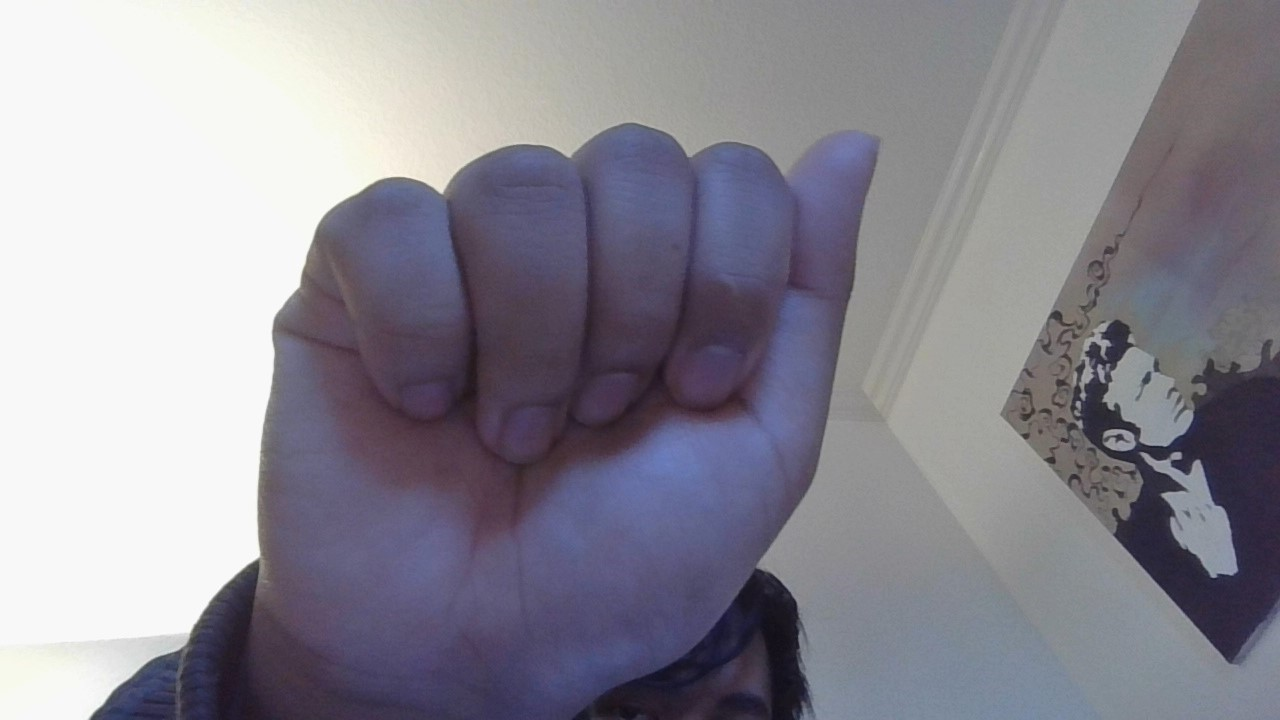a: (195, 108, 902, 675)
